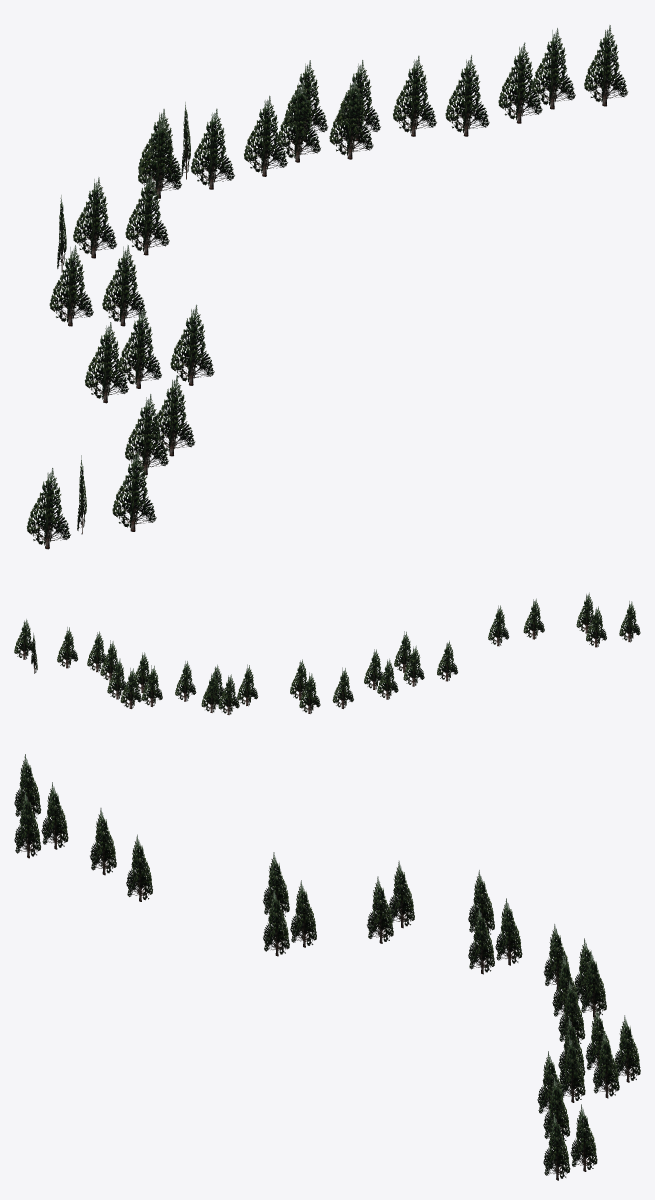
The model's file is RM_PLAYSURFACE_FINAL_INST_PINE_LOD1_71.fbx.
3 views of the same model, one above another, from view 1: azimuth 30°, elevation 25°; view 2: azimuth 150°, elevation 25°; view 3: azimuth 270°, elevation 25° (orthographic). The views are drawn at different scales.
Parts seen in each view (by area): view 1: RM_PLAYSURFACE_FINAL_INST_PINE_LOD1_71; view 2: RM_PLAYSURFACE_FINAL_INST_PINE_LOD1_71; view 3: RM_PLAYSURFACE_FINAL_INST_PINE_LOD1_71.
Boxes of the visible parts, x1,y1,x2,y2 form: RM_PLAYSURFACE_FINAL_INST_PINE_LOD1_71: (26, 25, 628, 549); RM_PLAYSURFACE_FINAL_INST_PINE_LOD1_71: (14, 592, 640, 714); RM_PLAYSURFACE_FINAL_INST_PINE_LOD1_71: (14, 754, 640, 1180).
Size of the model in its own units: 619778 by 74962 by 454867.
Materials: 1 (1 with a texture image).
